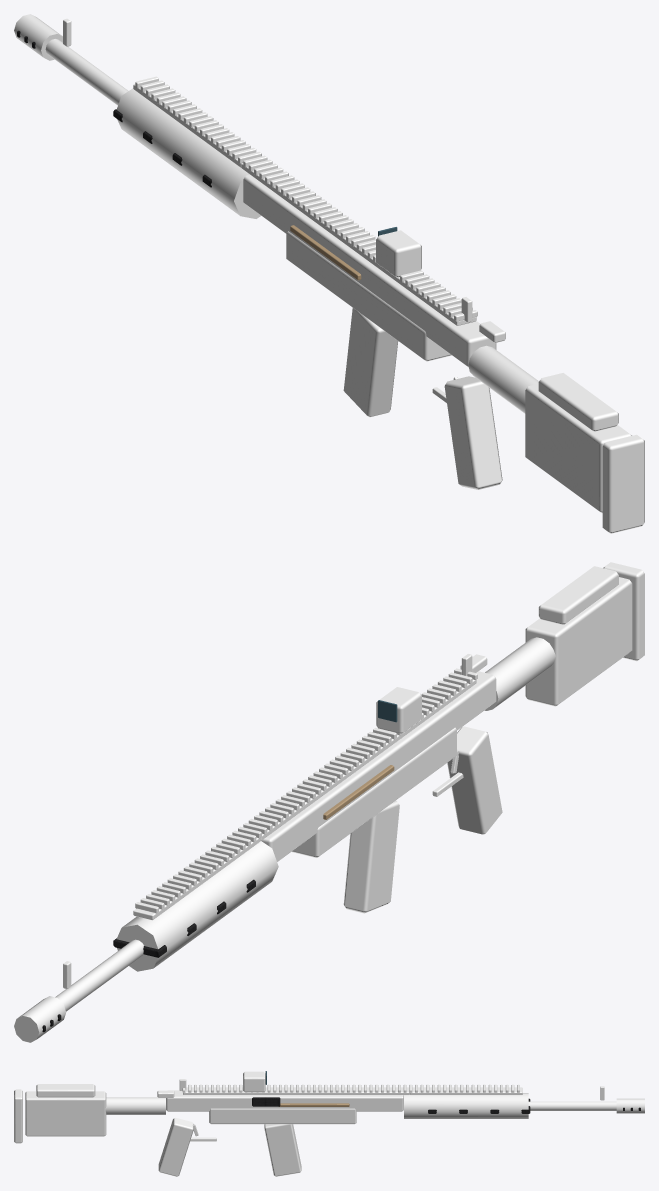
The model's file is carbine.glb.
The picture shows the model from 3 angles, top to bottom: view 1: azimuth 30°, elevation 25°; view 2: azimuth 150°, elevation 25°; view 3: azimuth 270°, elevation 25°; orthographic projection. The views are drawn at different scales.
Size of the model in its own units: 0.05 by 0.197 by 1.11.
5 materials, 1 textured.
